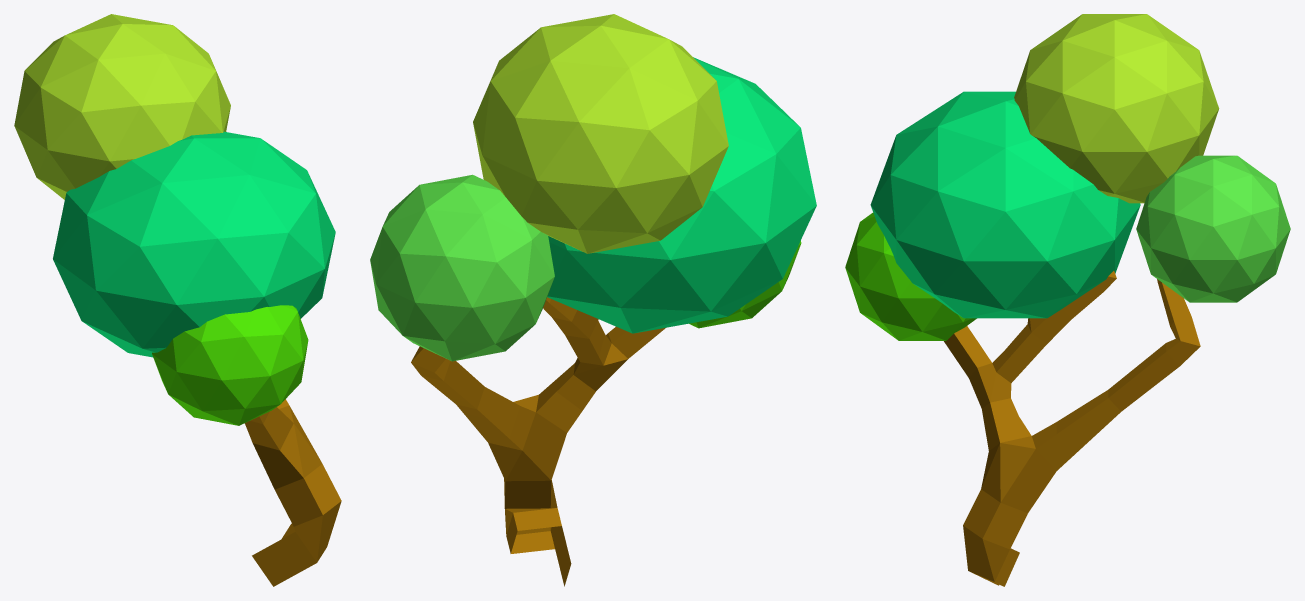
Rendered from Tree.fbx.
3 views of the same model, side by side, from view 1: azimuth 30°, elevation 25°; view 2: azimuth 150°, elevation 25°; view 3: azimuth 270°, elevation 25° (orthographic). The views are drawn at different scales.
Visible parts, largest first — view 1: Icosphere.002, Icosphere.001, Icosphere.003, Cube; view 2: Icosphere.001, Icosphere.002, Icosphere, Cube, Icosphere.003; view 3: Icosphere.002, Icosphere.001, Cube, Icosphere, Icosphere.003.
Part boxes in pixels (<box>): Icosphere.002: <box>53,131,335,357</box>; Icosphere.001: <box>14,14,230,199</box>; Icosphere.003: <box>152,305,308,425</box>; Cube: <box>245,399,341,586</box>; Icosphere.001: <box>473,14,728,253</box>; Icosphere.002: <box>547,57,816,333</box>; Icosphere: <box>370,174,554,361</box>; Cube: <box>411,297,665,586</box>; Icosphere.003: <box>689,240,801,328</box>; Icosphere.002: <box>870,91,1140,318</box>; Icosphere.001: <box>1014,14,1219,203</box>; Cube: <box>944,271,1200,586</box>; Icosphere: <box>1136,155,1290,302</box>; Icosphere.003: <box>845,212,976,340</box>.
Size of the model in its own units: 173 by 351 by 271.
